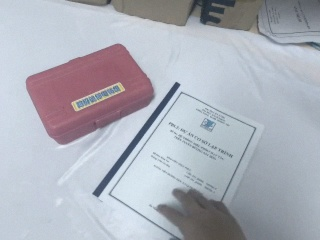box: (25, 42, 155, 149), (109, 1, 201, 26), (199, 1, 265, 32)
